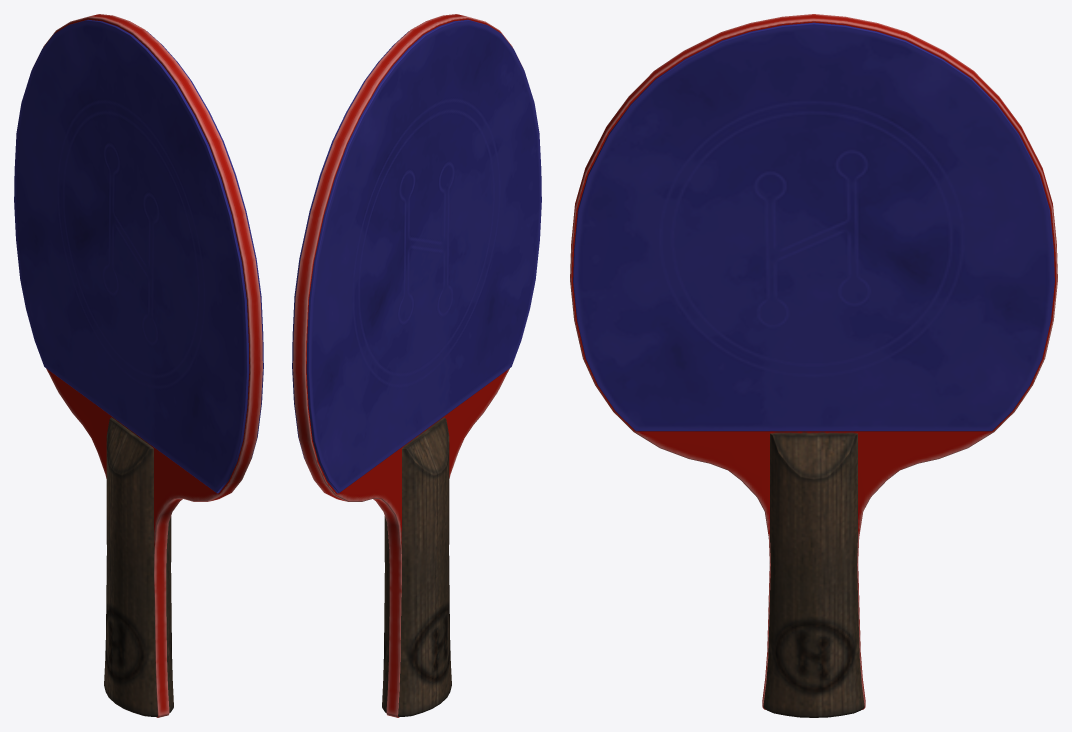
File: paddleRed.fbx
The picture shows the model from 3 angles, left to right: view 1: azimuth 30°, elevation 25°; view 2: azimuth 150°, elevation 25°; view 3: azimuth 270°, elevation 25°; orthographic projection. The views are drawn at different scales.
Parts seen in each view (by area): view 1: paddleblue; view 2: paddleblue; view 3: paddleblue.
Boxes of the visible parts, <box> form: paddleblue: <box>14,14,263,717</box>; paddleblue: <box>292,14,541,717</box>; paddleblue: <box>570,14,1057,717</box>.
Size of the model in its own units: 2.87 by 37.59 by 24.05.
Materials: 1 (1 with a texture image).
